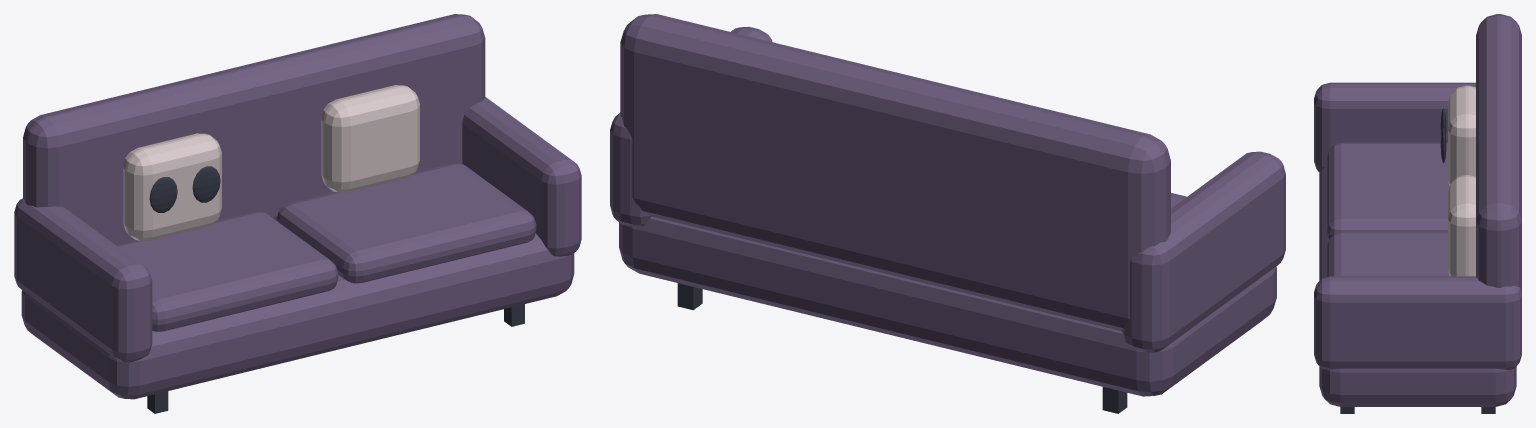
File: sofa.glb
The picture shows the model from 3 angles, left to right: view 1: azimuth 30°, elevation 25°; view 2: azimuth 150°, elevation 25°; view 3: azimuth 270°, elevation 25°; orthographic projection. The views are drawn at different scales.
Visible parts, largest first — view 1: Sofa back.002, Sofa base.002, Sofa cushion.005, Sofa cushion.004, Sofa arm.004, Sofa arm.005, Sofa pillow.005, Sofa pillow.004, Panda patch.005, Panda patch.004; view 2: Sofa back.002, Sofa base.002, Sofa arm.004, Sofa arm.005; view 3: Sofa arm.005, Sofa back.002, Sofa cushion.004, Sofa arm.004, Sofa base.002, Sofa cushion.005, Sofa pillow.005, Sofa pillow.004.
Boxes of the visible parts, x1,y1,x2,y2 form: Sofa back.002: (23,14,485,245); Sofa base.002: (21,233,574,399); Sofa cushion.005: (277,163,536,283); Sofa cushion.004: (116,211,338,331); Sofa arm.004: (14,198,152,362); Sofa arm.005: (462,97,581,256); Sofa pillow.005: (321,85,419,192); Sofa pillow.004: (123,133,221,241); Panda patch.005: (192,166,220,202); Panda patch.004: (149,177,177,212); Sofa back.002: (620,14,1170,331); Sofa base.002: (619,216,1276,396); Sofa arm.004: (1121,151,1285,352); Sofa arm.005: (610,26,772,226); Sofa arm.005: (1314,276,1521,369); Sofa back.002: (1476,14,1521,291); Sofa cushion.004: (1327,142,1449,240); Sofa arm.004: (1314,82,1475,172); Sofa base.002: (1319,166,1516,406); Sofa cushion.005: (1327,232,1449,276); Sofa pillow.005: (1448,175,1475,276); Sofa pillow.004: (1448,85,1475,186).
Size of the model in its own units: 2.83 by 1.39 by 1.18.
